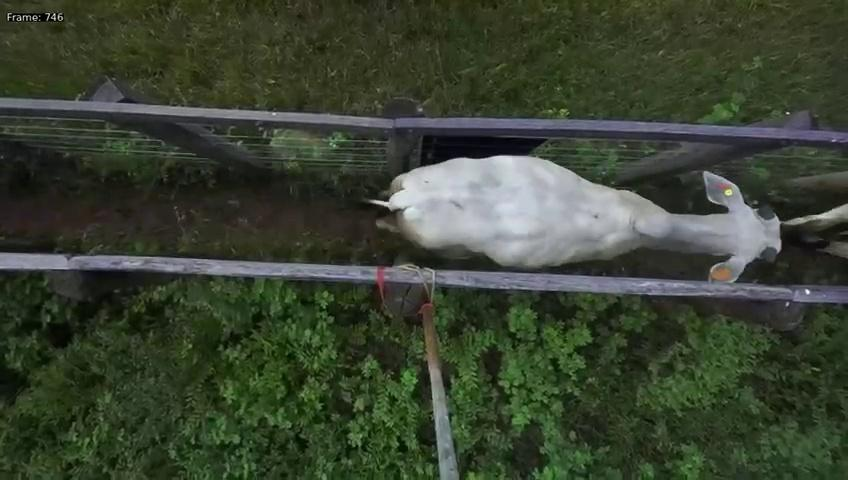cattle: (359, 129, 785, 283)
